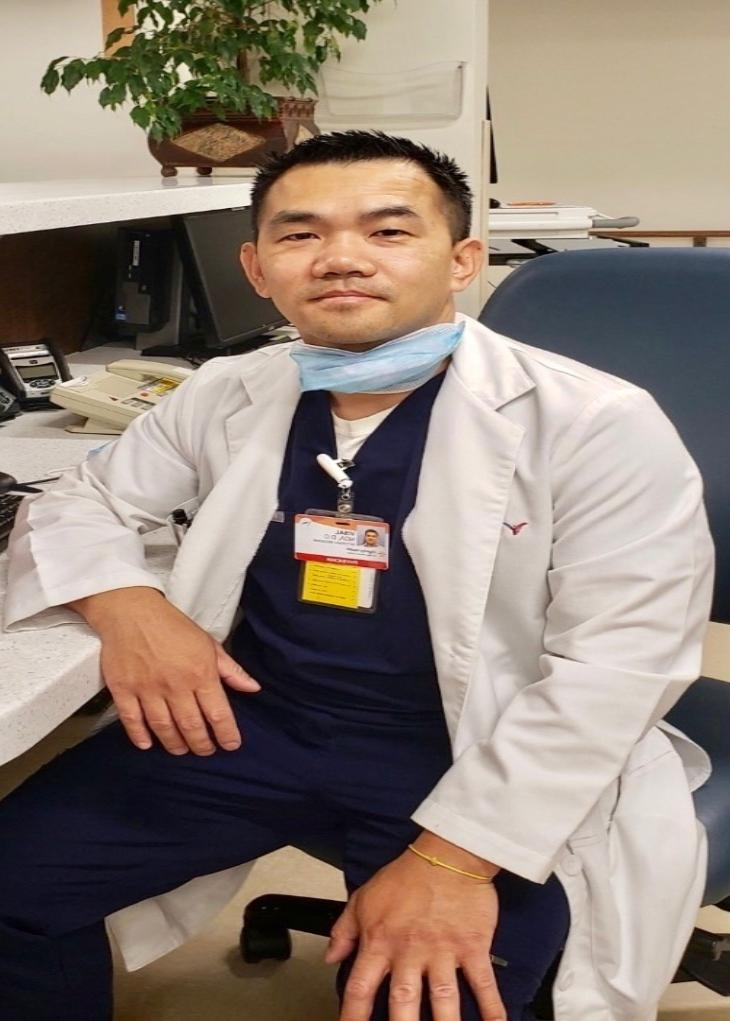mask_weared_incorrect: (244, 130, 484, 366)
